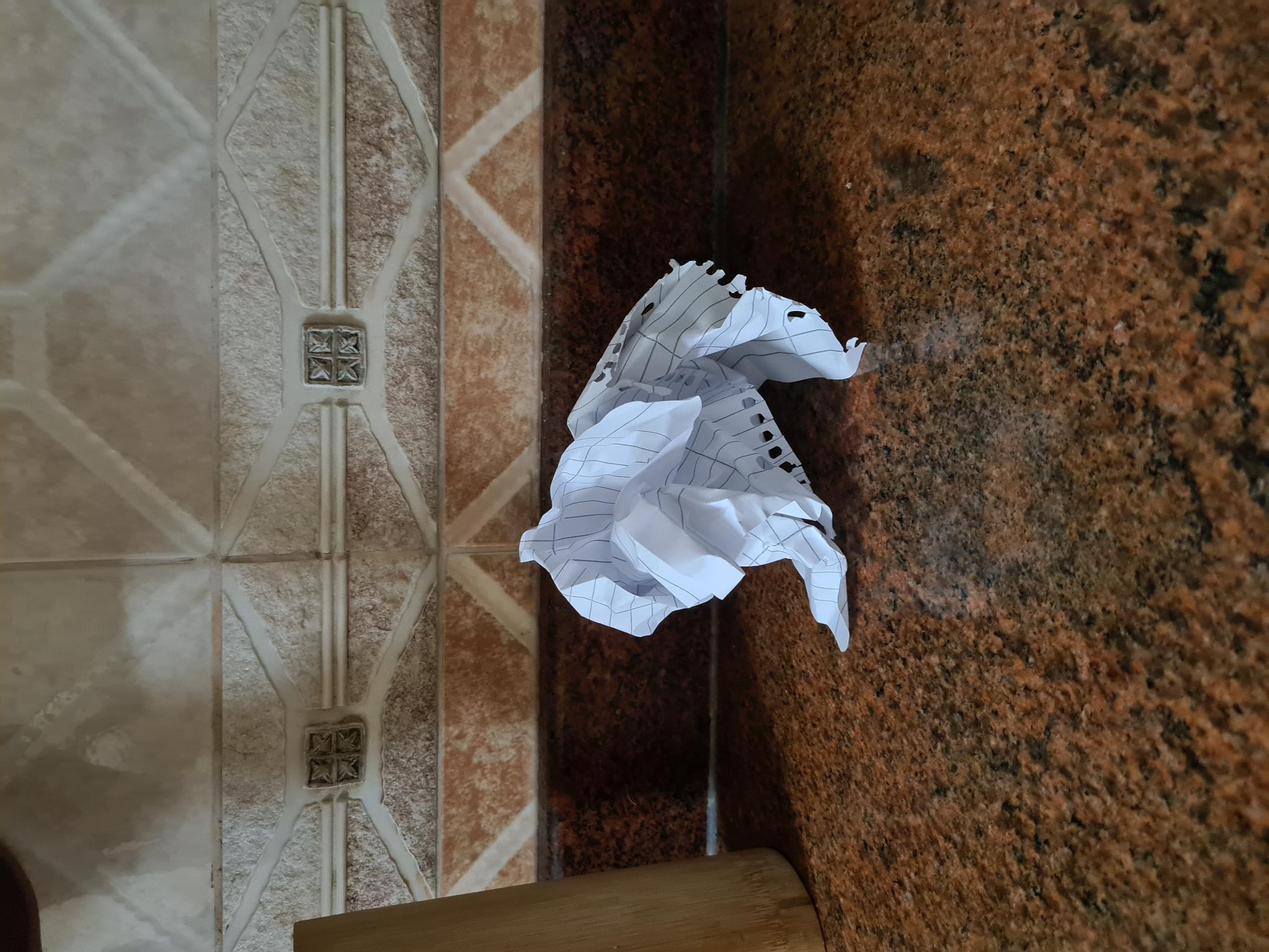Kertas: (306, 517, 716, 860)
